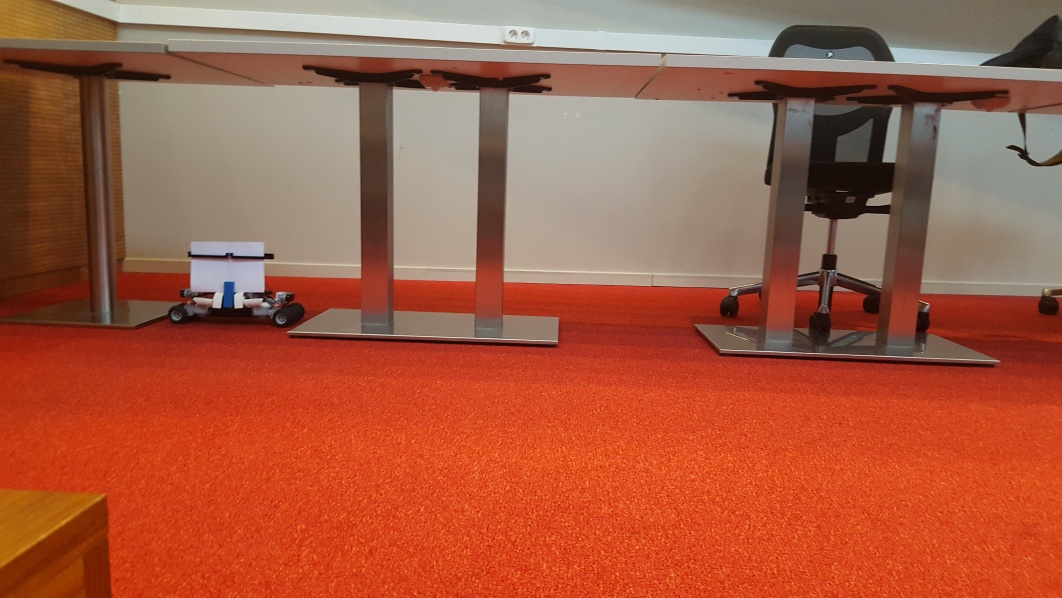car: (166, 241, 306, 331)
